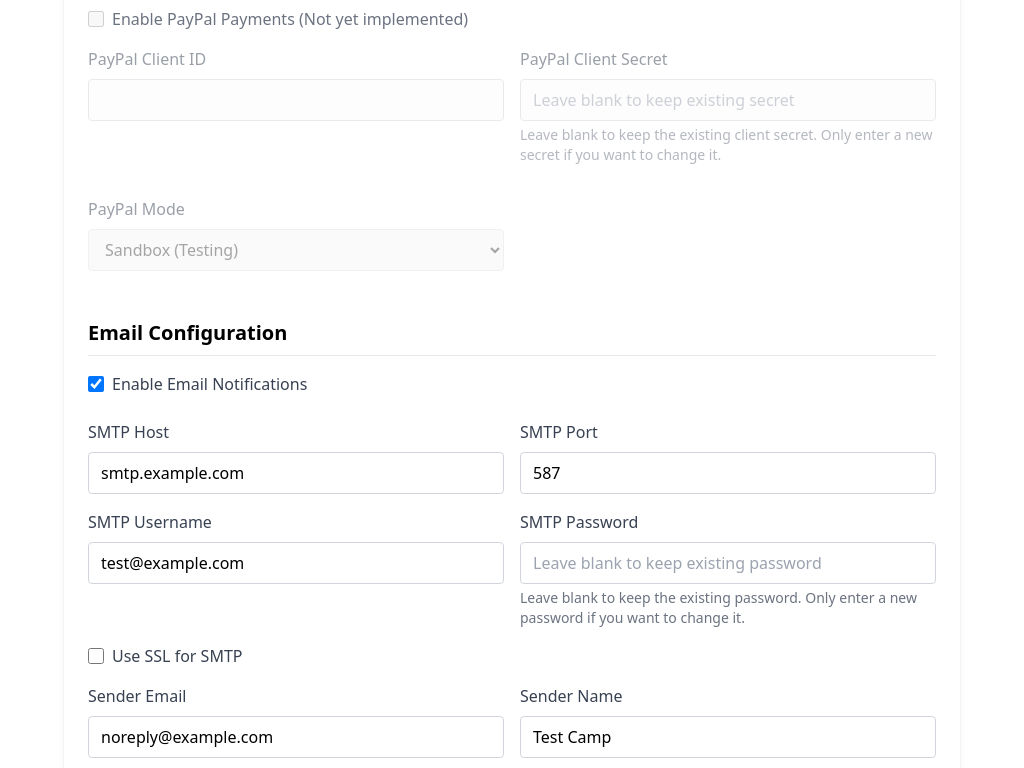
Scenario: AdminConfigPage - Email Toggle Functionality › should toggle SMTP fields when emailEnabled checkbox is clicked
(page scrolled)
Expected: the field labelled "SMTP Host" is enabled, [88,452,504,494]
Uncheck the email enabled checkbox
Click the checkbox labelled "Enable Email Notifications".
click(96, 384)  # box [88,376,104,392]
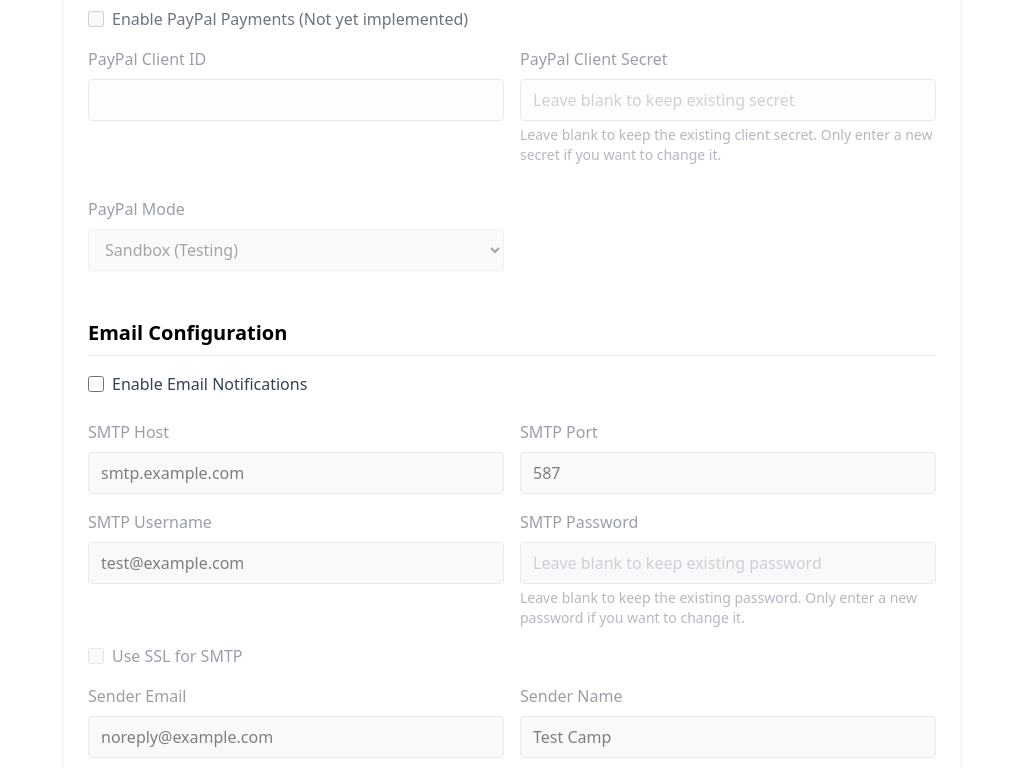
Now the checkbox labelled "Enable Email Notifications" is not checked
Now the field labelled "SMTP Host" is disabled, box [88,452,504,494]
Check the checkbox again
Click the checkbox labelled "Enable Email Notifications".
click(96, 384)  # box [88,376,104,392]
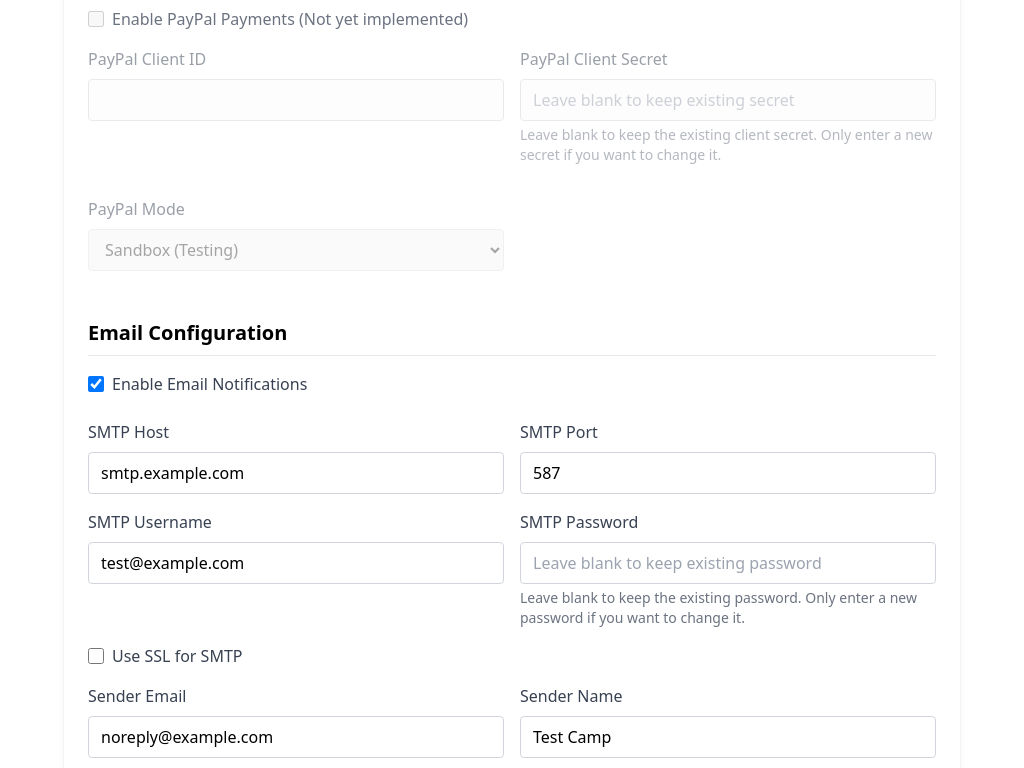
Now the checkbox labelled "Enable Email Notifications" is checked, box [88,376,104,392]
Now the field labelled "SMTP Host" is enabled, box [88,452,504,494]
